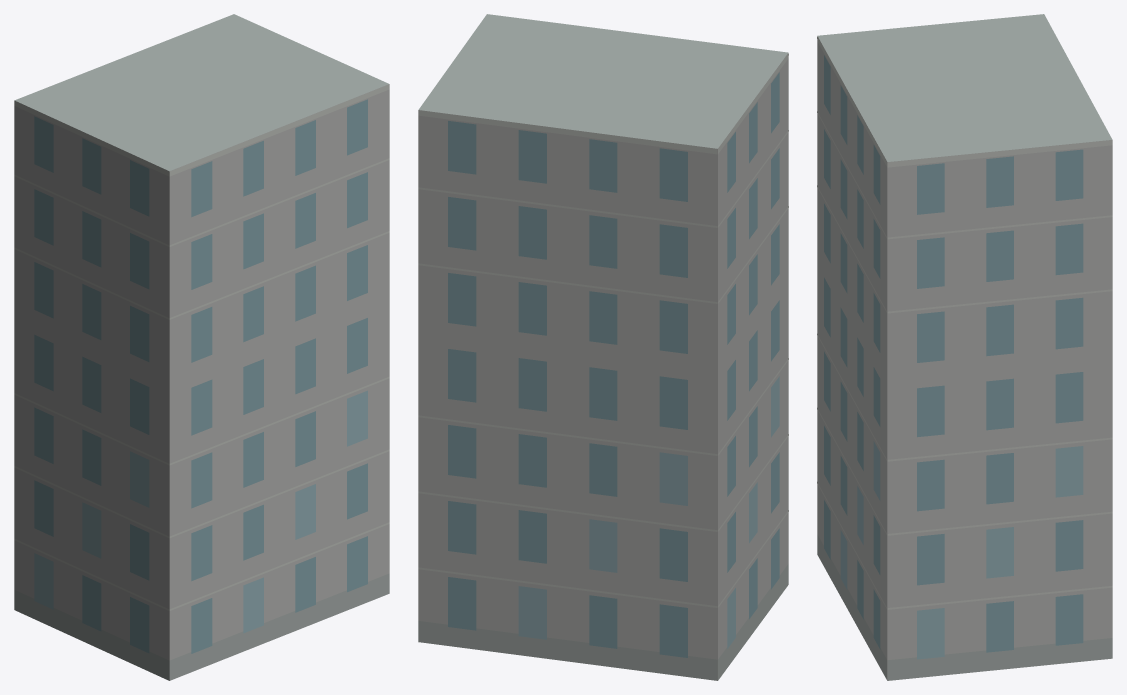
File: survey-upis-32824323.glb
3 renders of one model, left to right at view 1: azimuth 30°, elevation 25°; view 2: azimuth 150°, elevation 25°; view 3: azimuth 270°, elevation 25°, orthographic. The views are drawn at different scales.
Parts seen in each view (by area): view 1: survey-upis-32824323.tmp; view 2: survey-upis-32824323.tmp; view 3: survey-upis-32824323.tmp.
Part boxes in pixels (left/top/right/bottom): survey-upis-32824323.tmp: left=14, top=14, right=389, bottom=680; survey-upis-32824323.tmp: left=418, top=14, right=788, bottom=680; survey-upis-32824323.tmp: left=817, top=14, right=1112, bottom=680.
Bounding box in the file's own units: 14.11 × 23 × 11.89.
